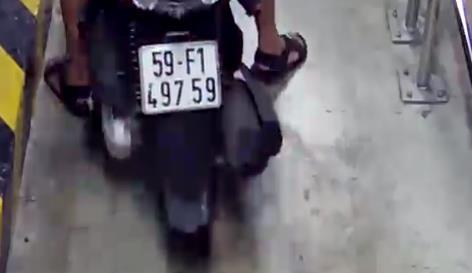lisence: (137, 40, 223, 114)
